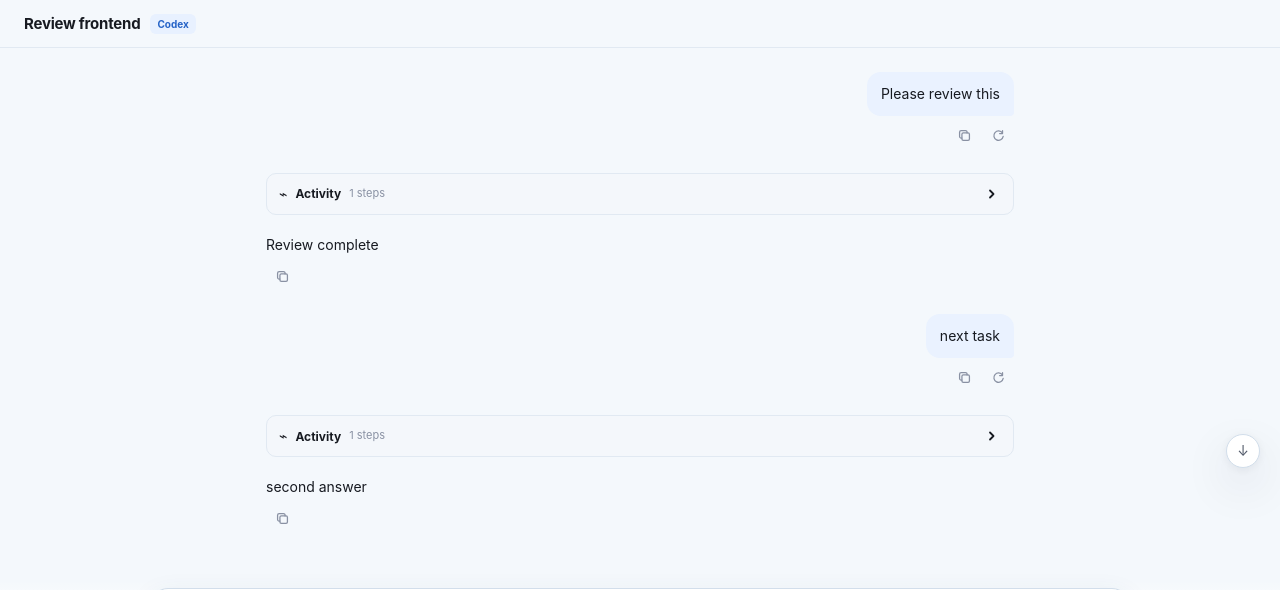
DSH conversation surface › keeps each question's activity before its answer during one long-lived Trae Turn
Click the button with aria-label "Expand activity" at (318, 436), box [267, 416, 1013, 456]
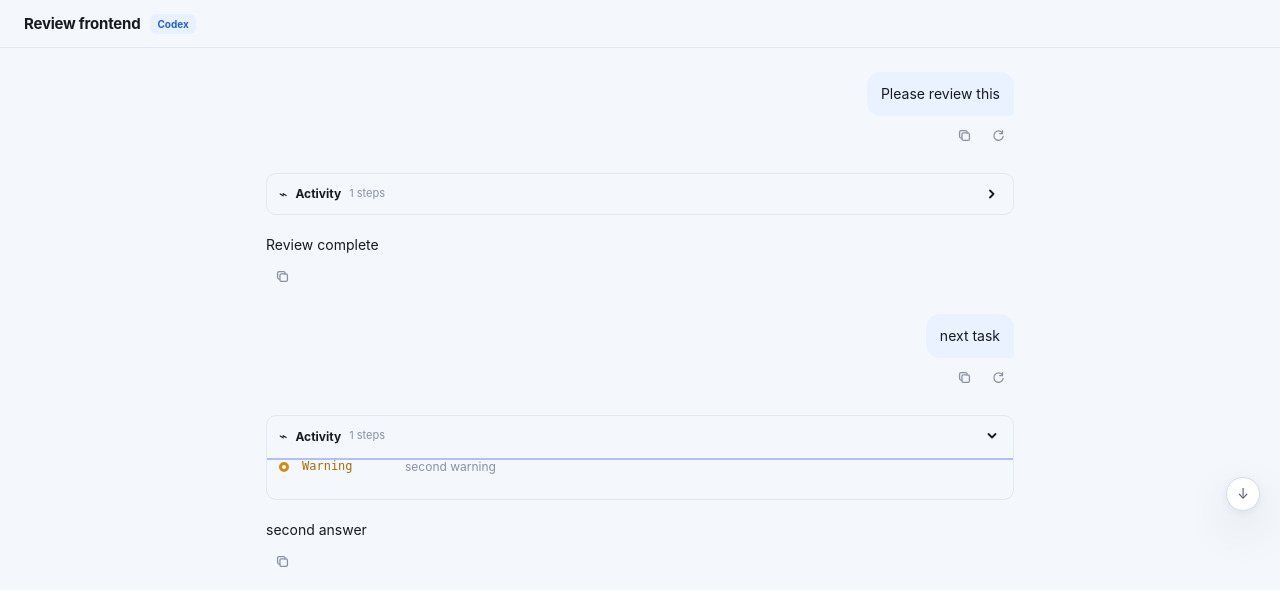
Expected: the text "second warning" is shown, [405, 459, 496, 474]
